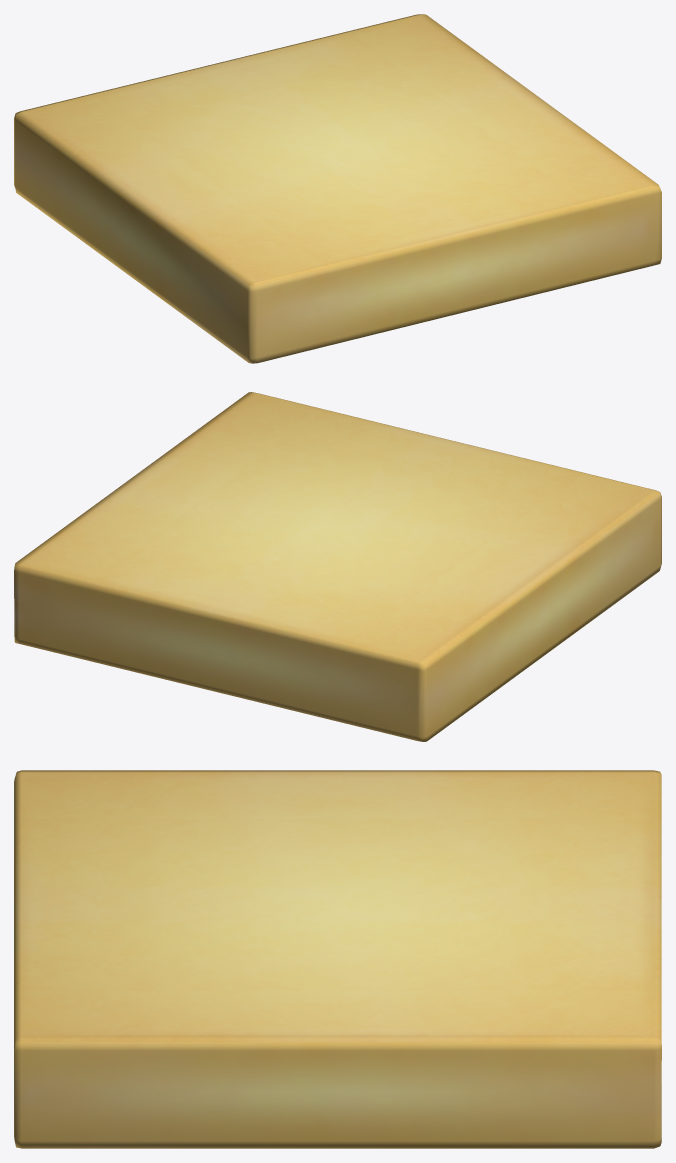
File: platform.FBX
3 views of the same model, one above another, from view 1: azimuth 30°, elevation 25°; view 2: azimuth 150°, elevation 25°; view 3: azimuth 270°, elevation 25° (orthographic). The views are drawn at different scales.
Visible parts, largest first — view 1: Box001; view 2: Box001; view 3: Box001.
Part boxes in pixels (bbox=[...]): Box001: bbox=[14, 14, 661, 363]; Box001: bbox=[14, 392, 661, 741]; Box001: bbox=[14, 770, 661, 1148].
Size of the model in its own units: 4.05 by 0.75 by 4.05.
1 material, 1 textured.
